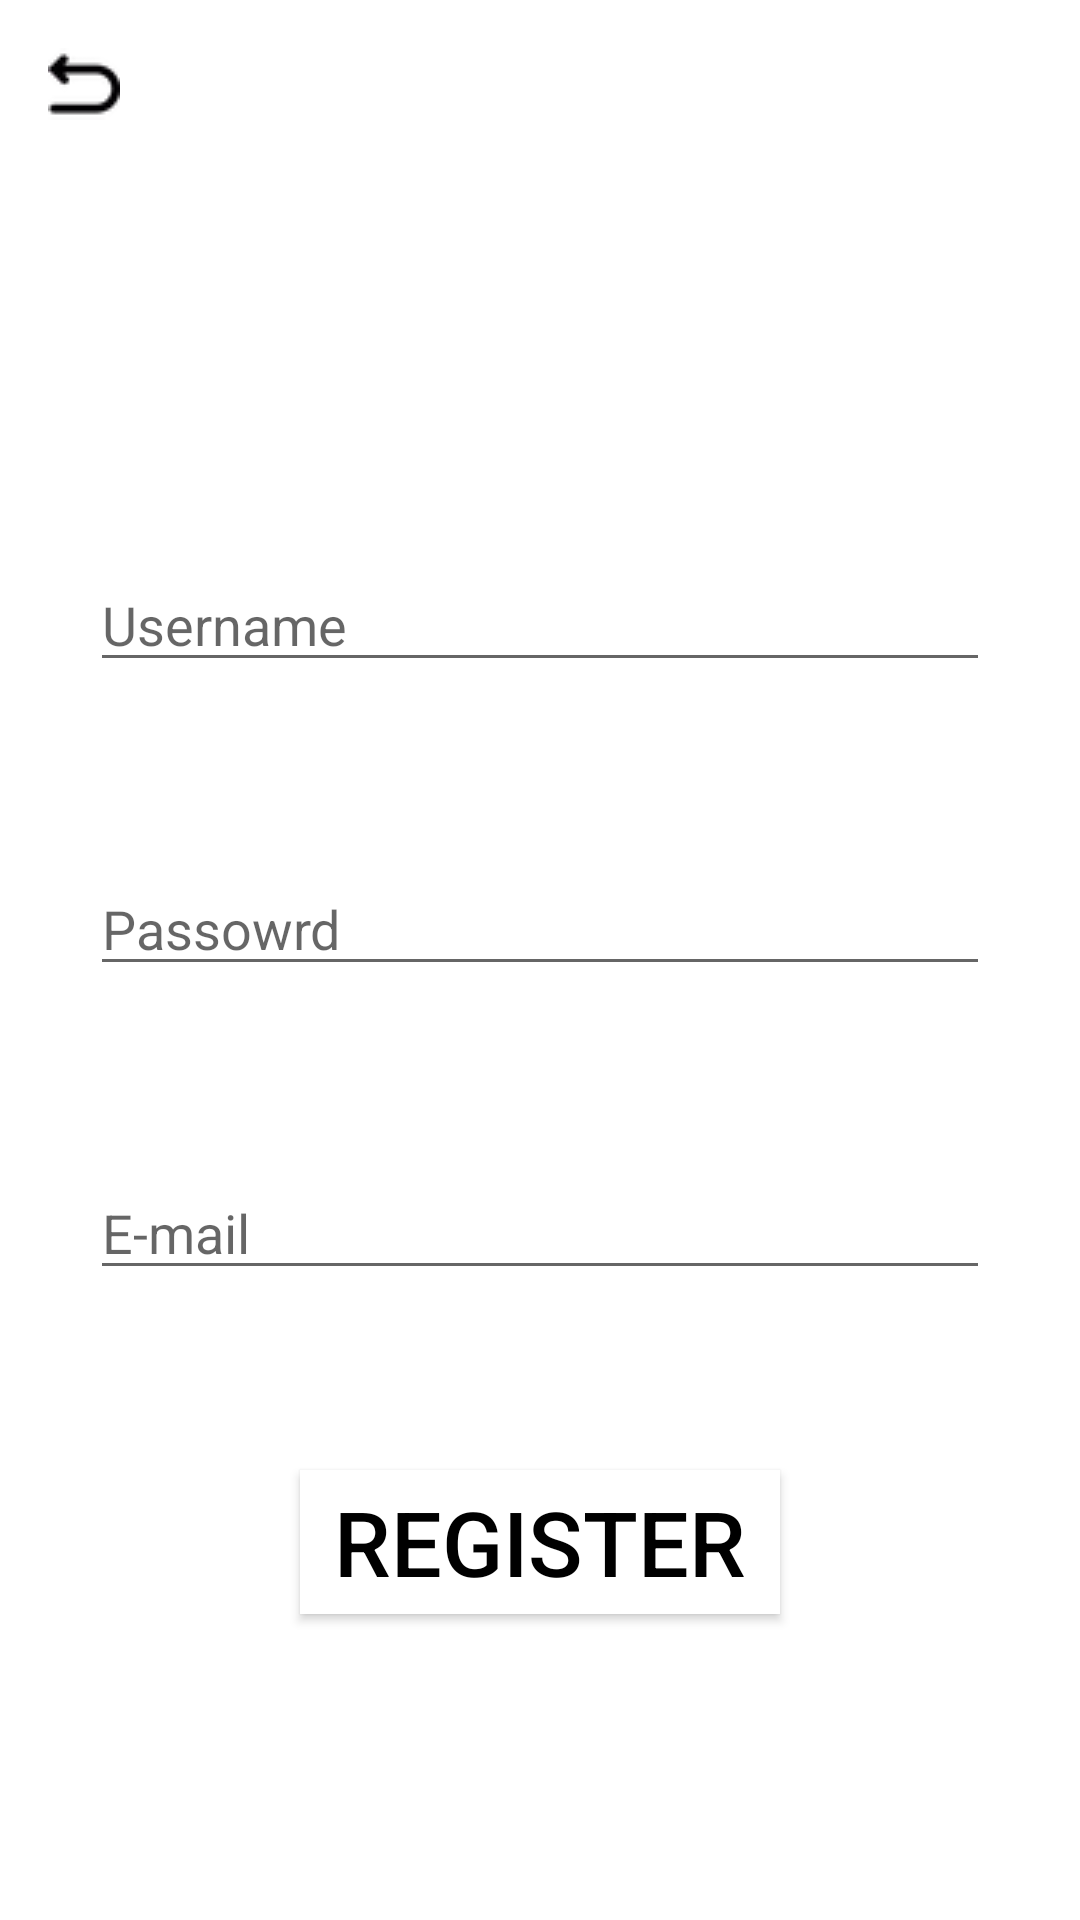

Screen size 1080×1920. Icon name, then its center in pixels as (x=x, y=y):
back arrow: (x=84, y=84)
